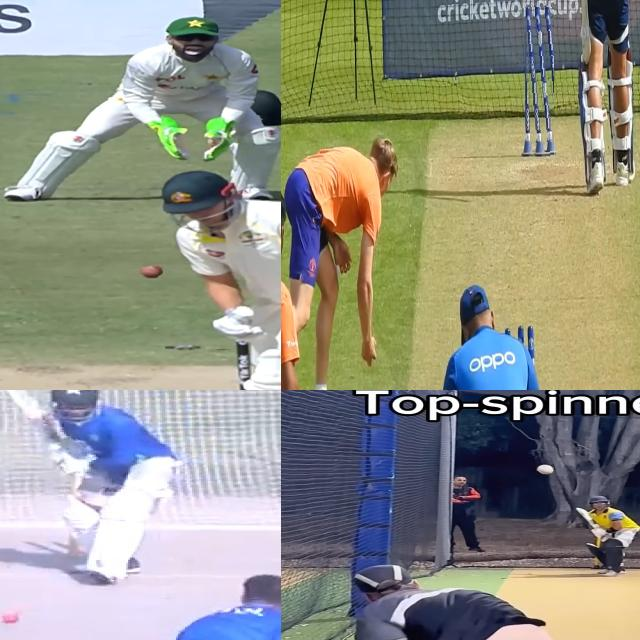Cricket ball: (140, 265, 163, 280), (0, 610, 23, 625), (535, 464, 555, 475)
Stumps: (520, 1, 554, 158)
